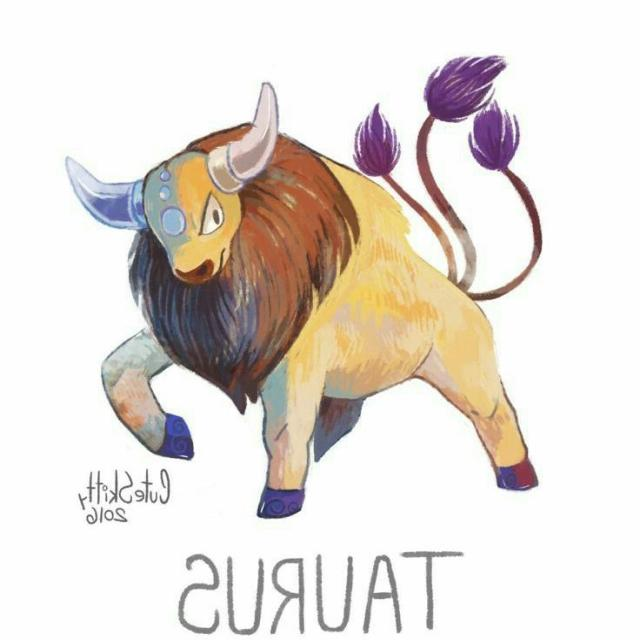Tauros: (92, 86, 515, 517)
